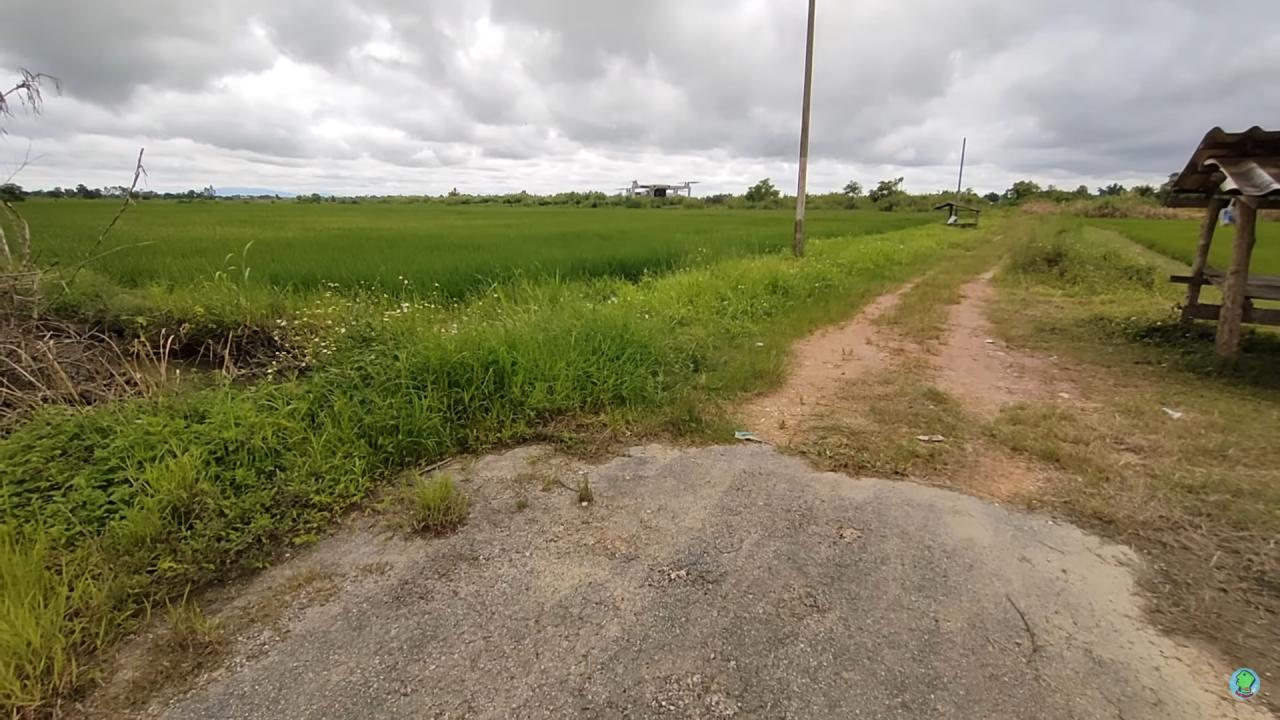Drone: (618, 169, 708, 209)
